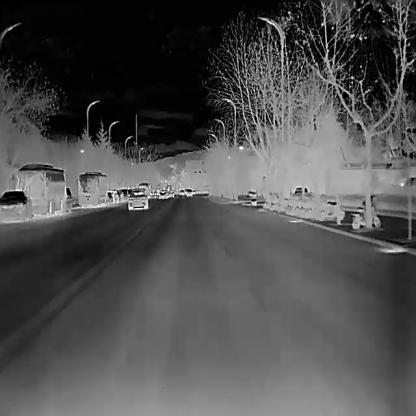bus: (7, 162, 66, 215), (75, 170, 106, 206), (137, 182, 150, 198)
car: (0, 190, 34, 218), (127, 186, 148, 209), (100, 188, 119, 204), (118, 187, 128, 201), (157, 189, 167, 199), (184, 187, 192, 197), (166, 190, 174, 198), (179, 189, 184, 195)
